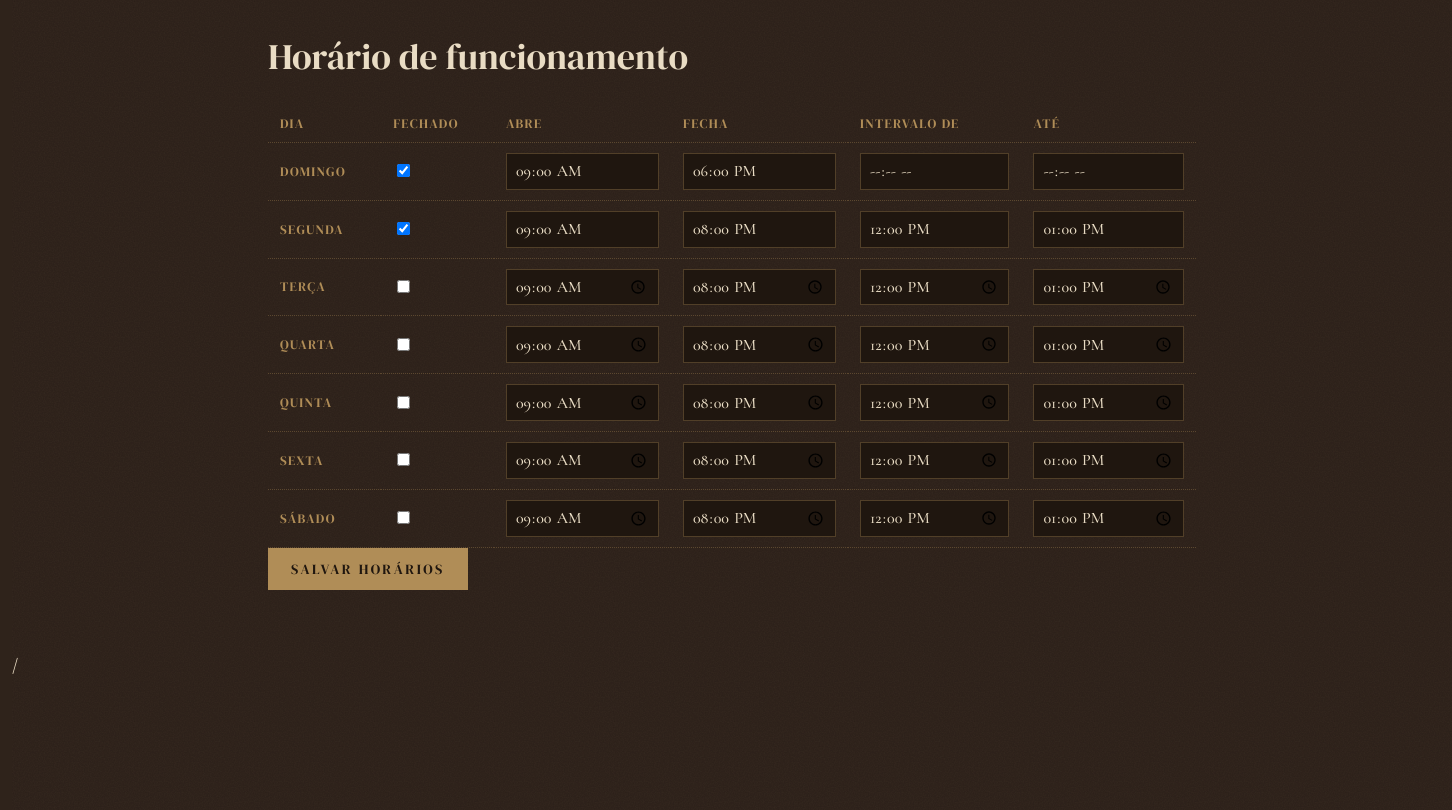
Test: BusinessHours › 409 CONFLICTING_APPOINTMENTS shows ConflictList
What coordinates should you click on to do the following:
click the checkbox named "Fechado (Terça)"
I would click on:
 (404, 286)
Its box is [397,280,410,293].
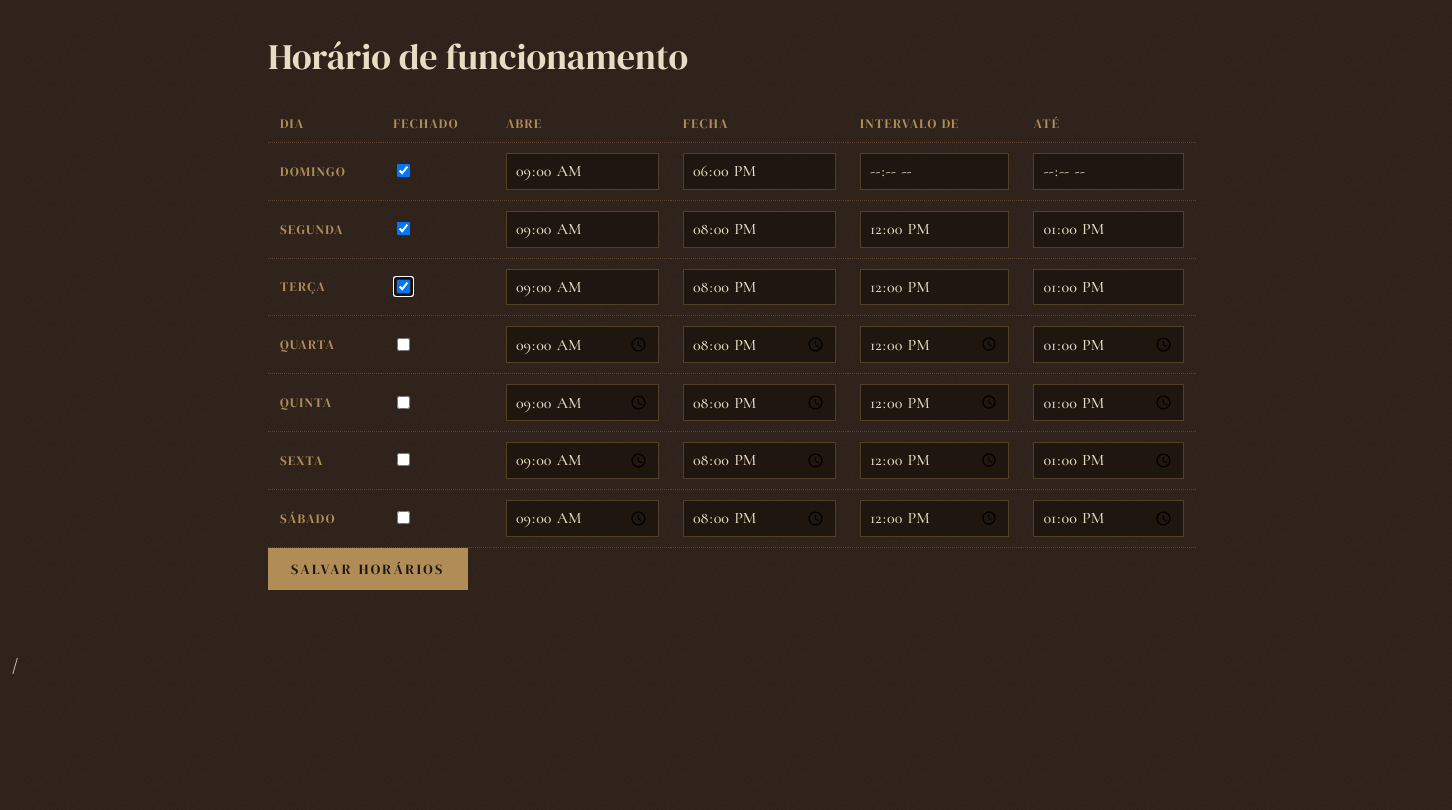
What coordinates should you click on to do the following:
click the button "Salvar horários"
I would click on:
 (368, 569)
Its box is [268,548,468,590].
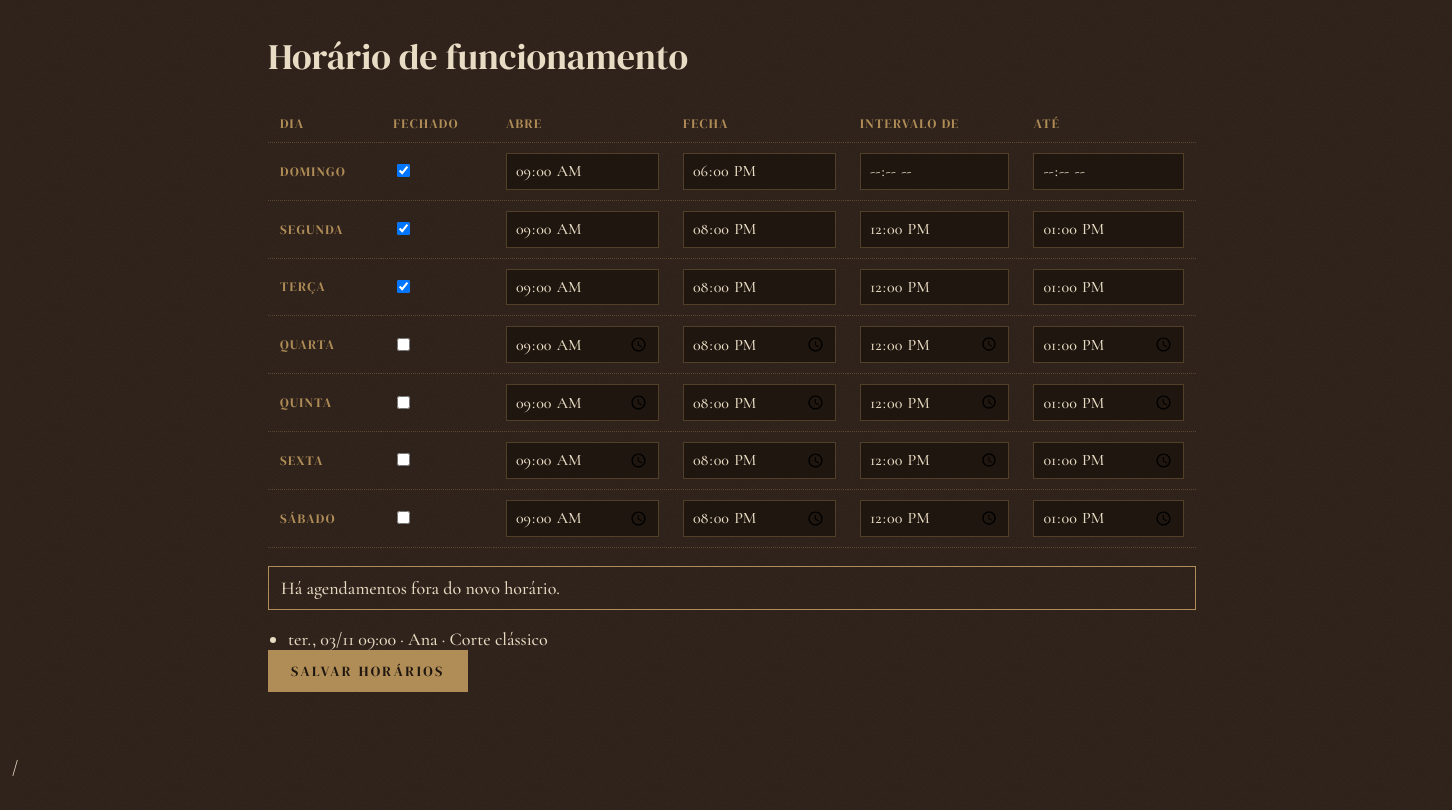
Check: the message reads "Há agendamentos fora do novo horário.", box [281,577,560,599]
Check: the list item "ter., 03/11 09:00 · Ana · Corte clássico" is shown, box [288,628,548,650]
